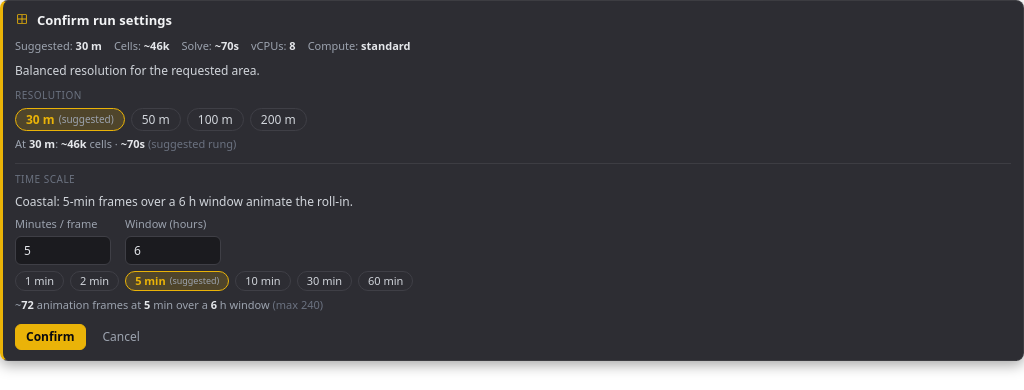
Test case: ResolutionPickerCard - combined run-settings (time scale) › a cadence preset chip sets the interval field
What coordinates should you click on to do the following:
click the button with test id "resolution-picker-interval-chip-10"
I would click on:
 (263, 281)
Its box is [235,271,291,291].
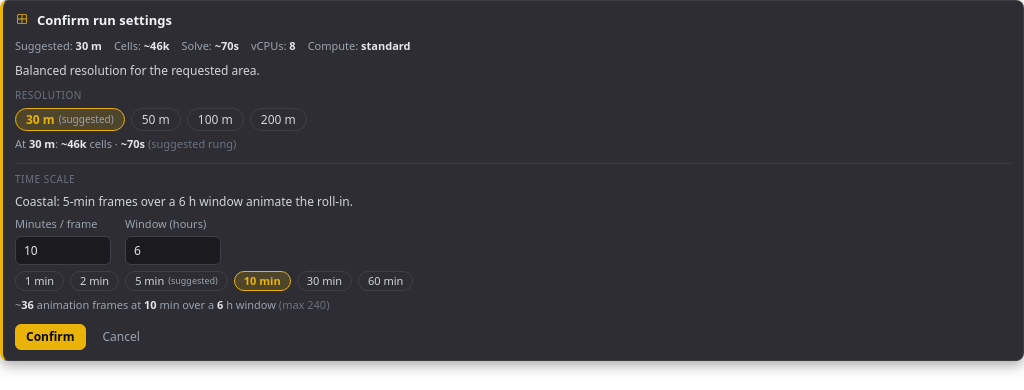
Expected: the number field with test id "resolution-picker-interval-input" holds "10", [15,236,111,265]
Expected: the text with test id "resolution-picker-frame-count" reads "36", [21,297,34,312]
